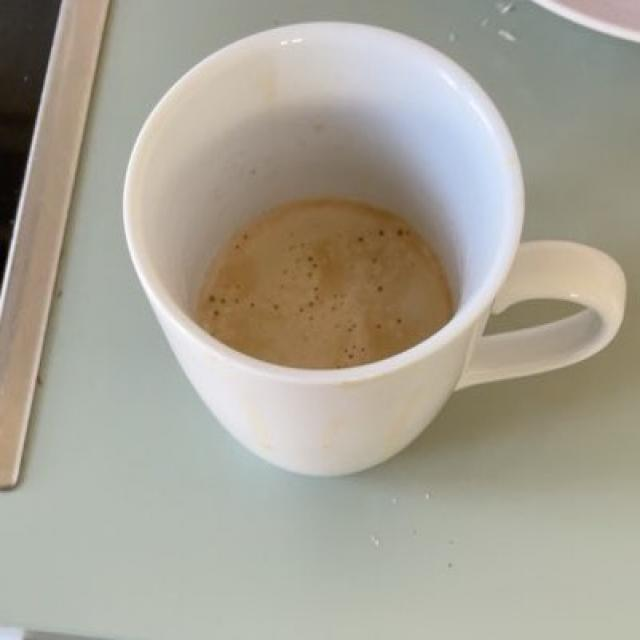risotto: (197, 194, 454, 358)
